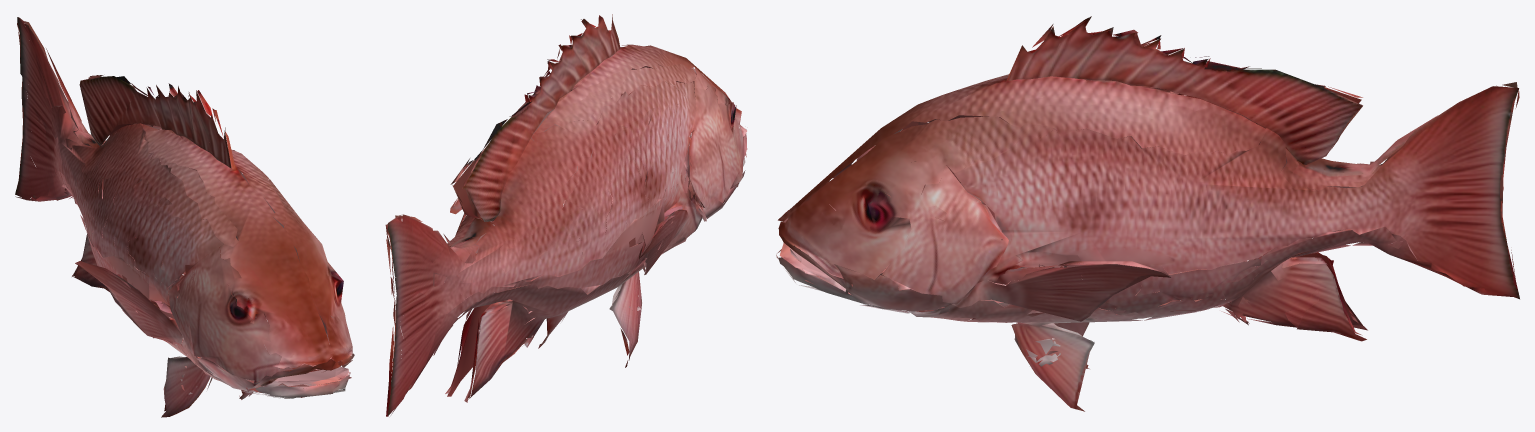
File: redSnapper.glb
3 views of the same model, side by side, from view 1: azimuth 30°, elevation 25°; view 2: azimuth 150°, elevation 25°; view 3: azimuth 270°, elevation 25° (orthographic). The views are drawn at different scales.
Visible parts, largest first — view 1: redSnapper.001; view 2: redSnapper.001; view 3: redSnapper.001.
Boxes of the visible parts, left/top/right/bottom form: redSnapper.001: left=15, top=17, right=354, bottom=417; redSnapper.001: left=385, top=14, right=747, bottom=416; redSnapper.001: left=776, top=16, right=1519, bottom=411.
Bounding box in the file's own units: 0.3323 × 0.5623 × 1.
1 material, 1 textured.
